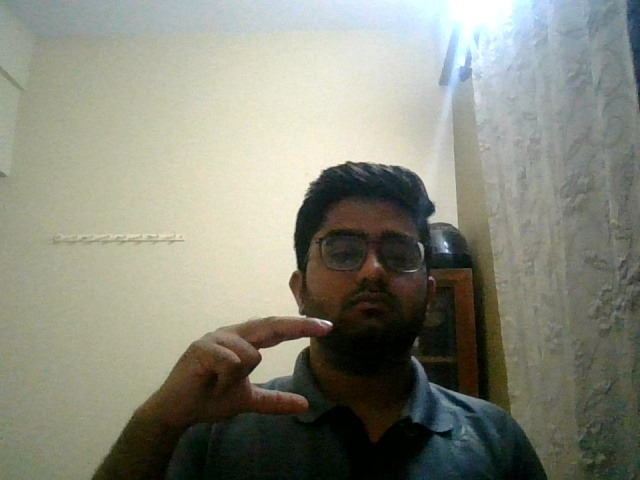No: (127, 291, 346, 453)
